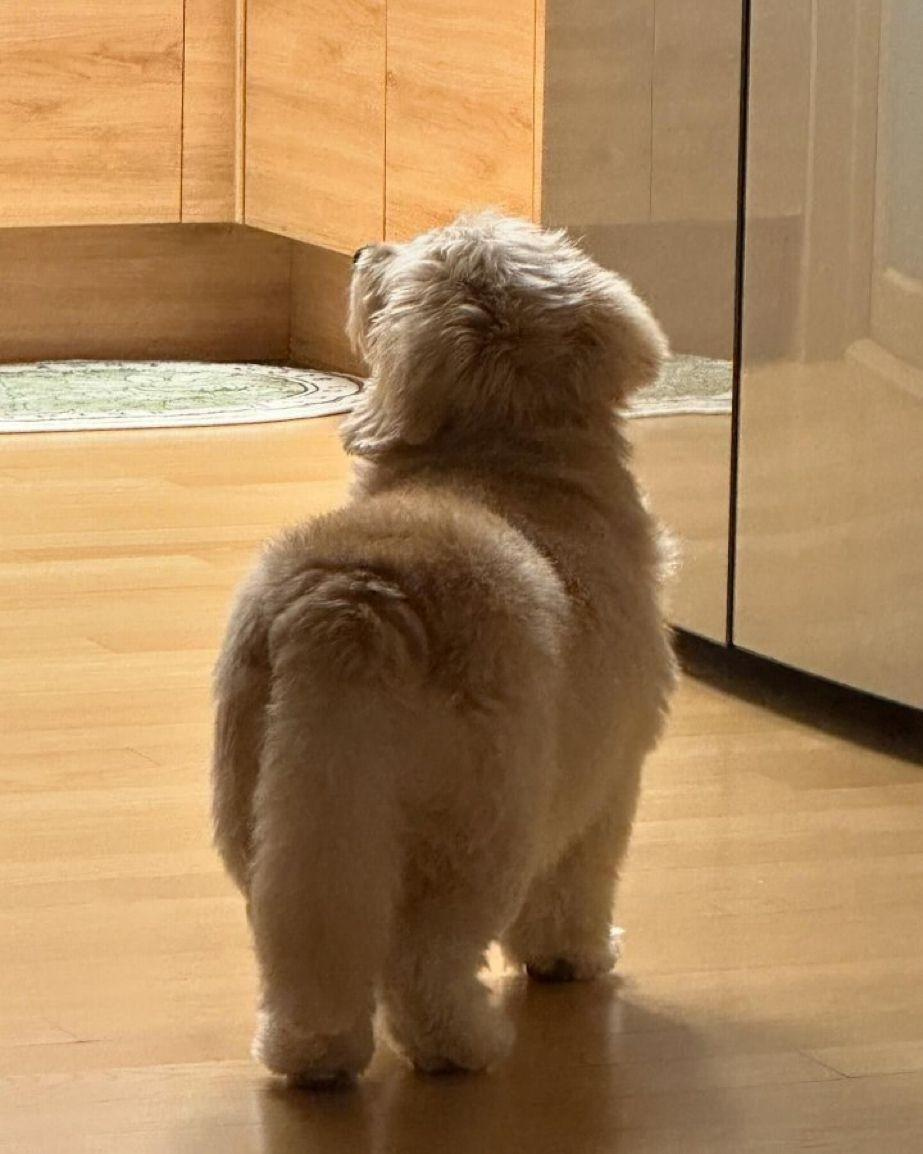adult_dog: (206, 206, 685, 1097)
